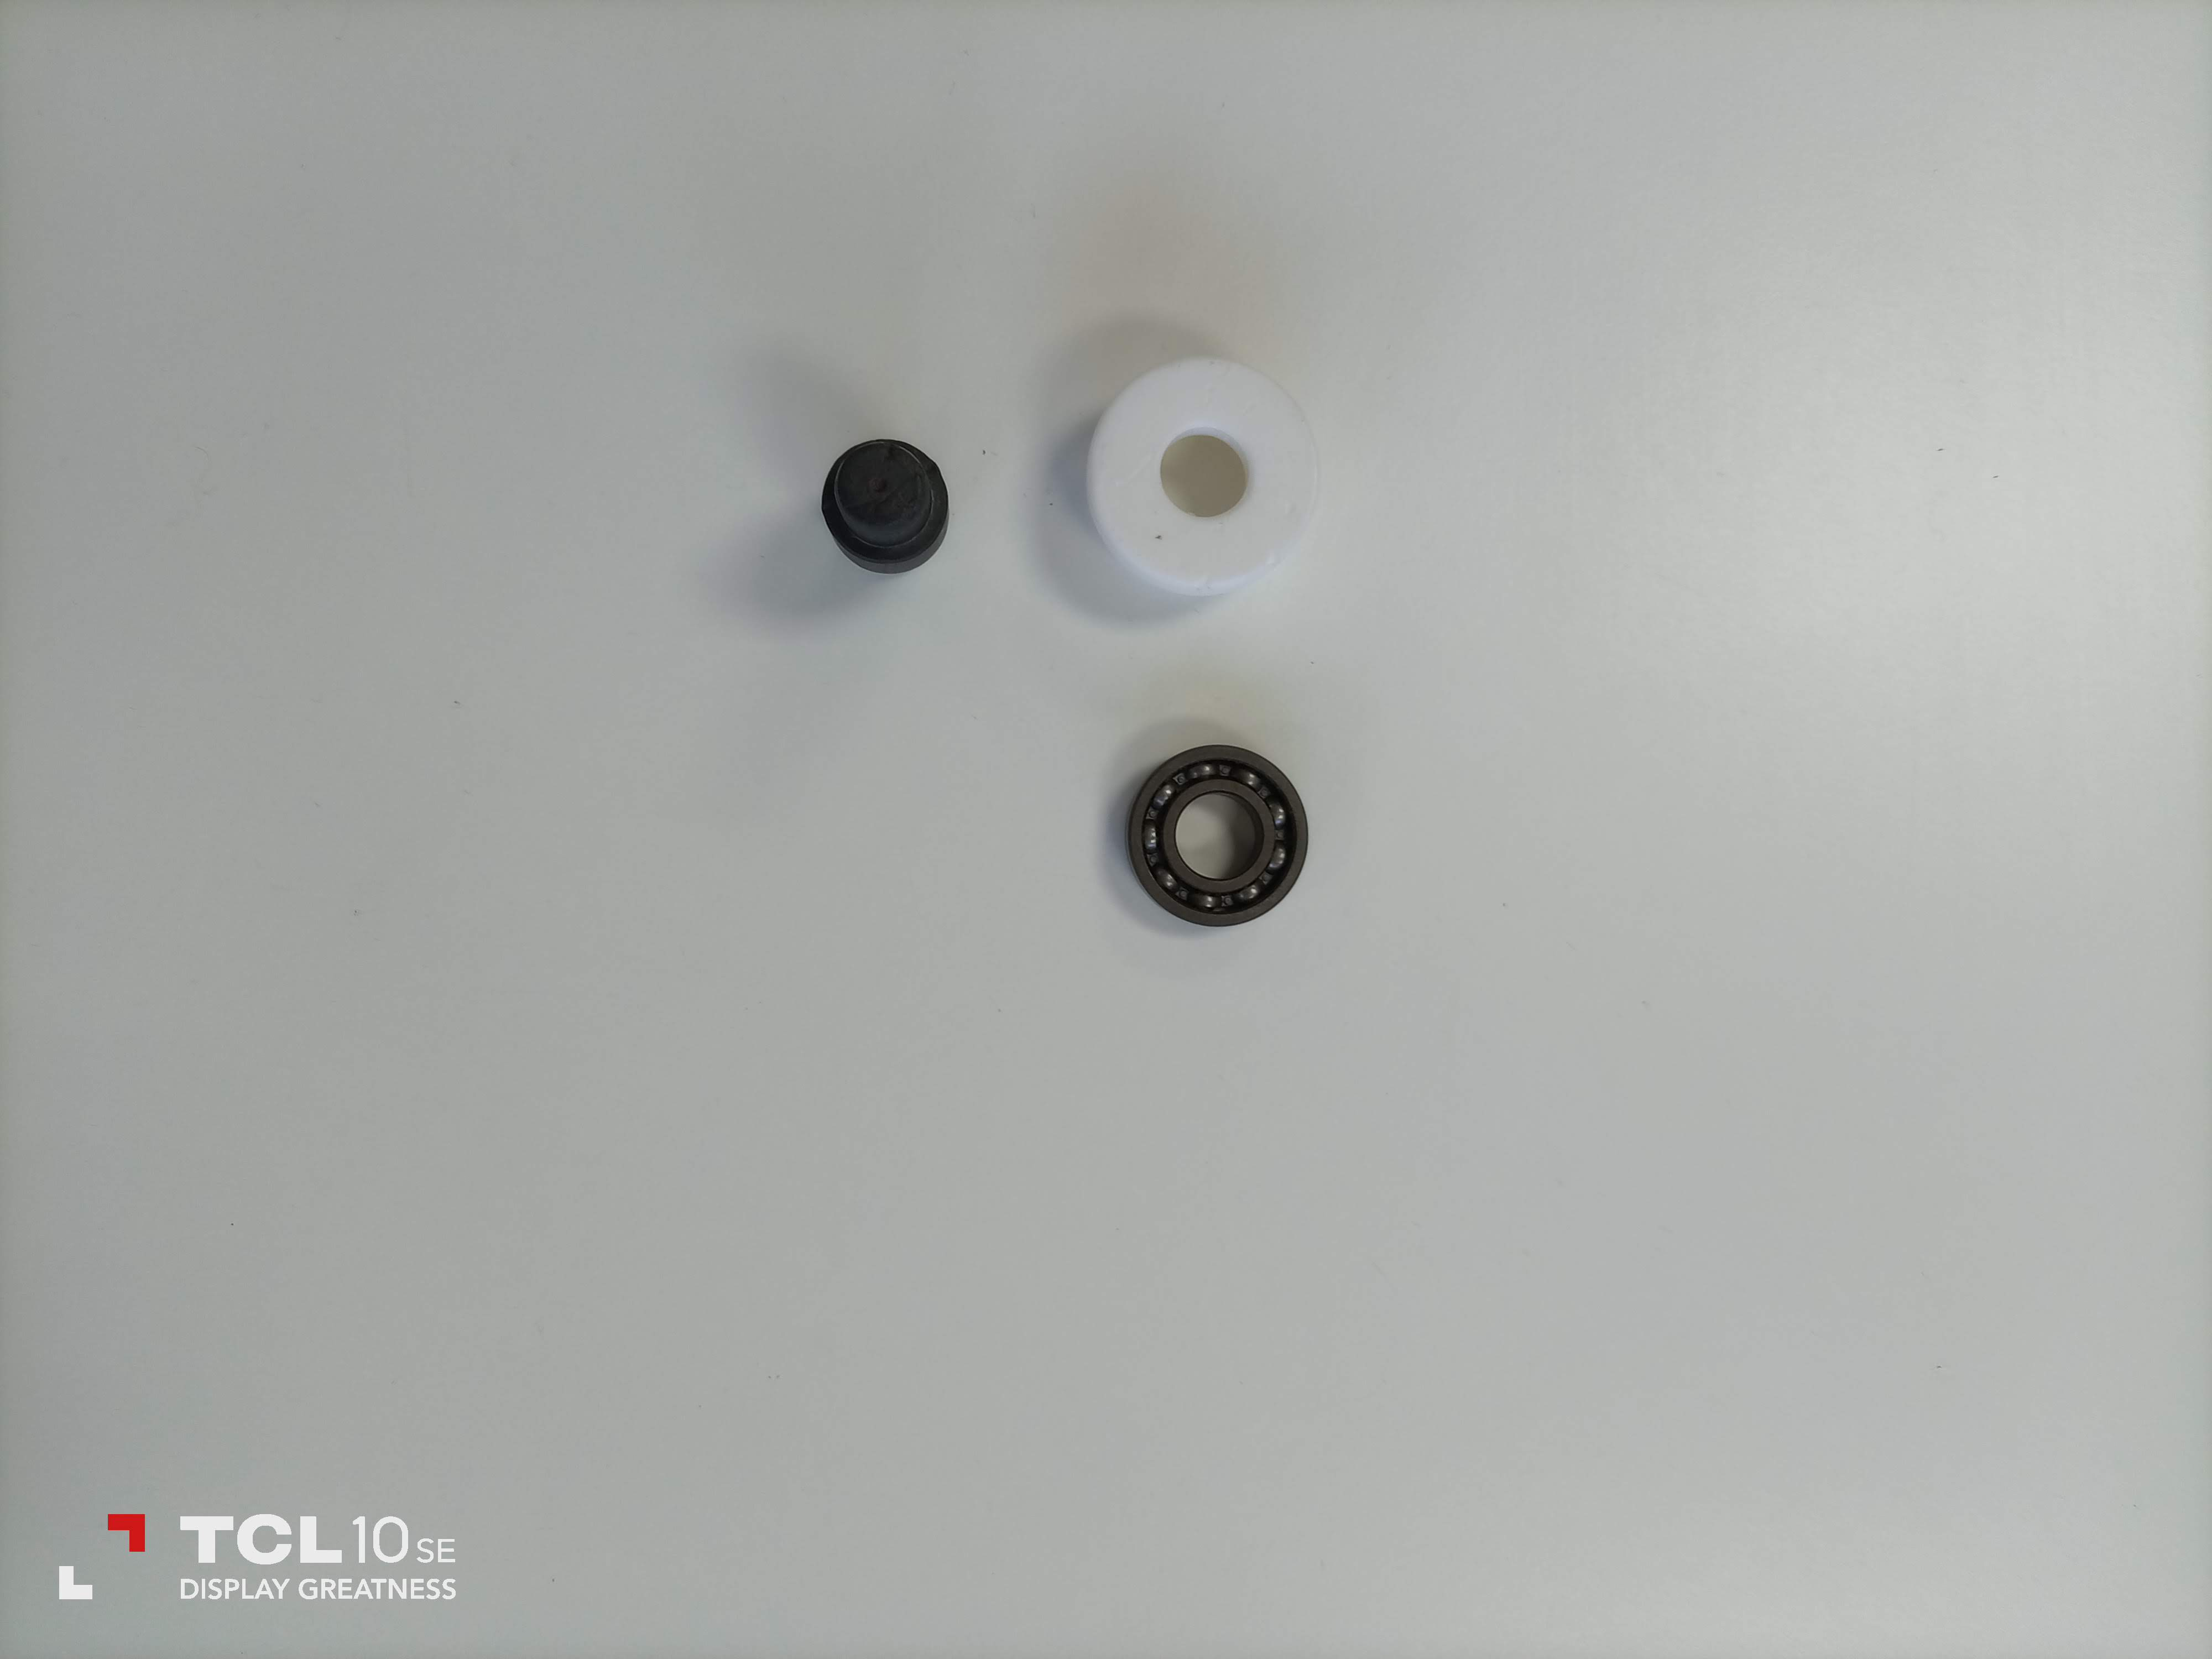Ardatza: (820, 439, 951, 570)
Roda: (1129, 755, 1310, 929)
Tapa: (1089, 362, 1310, 594)
